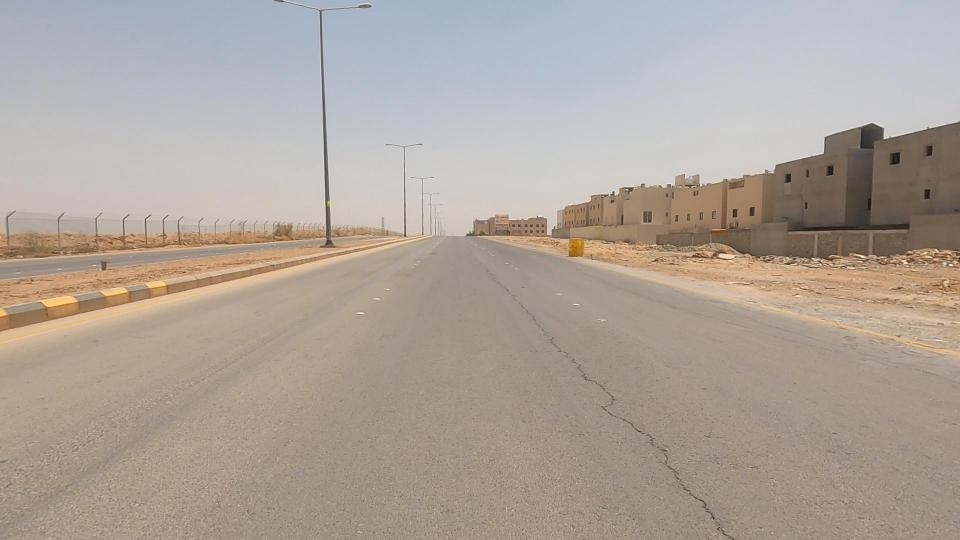GARBAGE: (801, 231, 912, 292)
